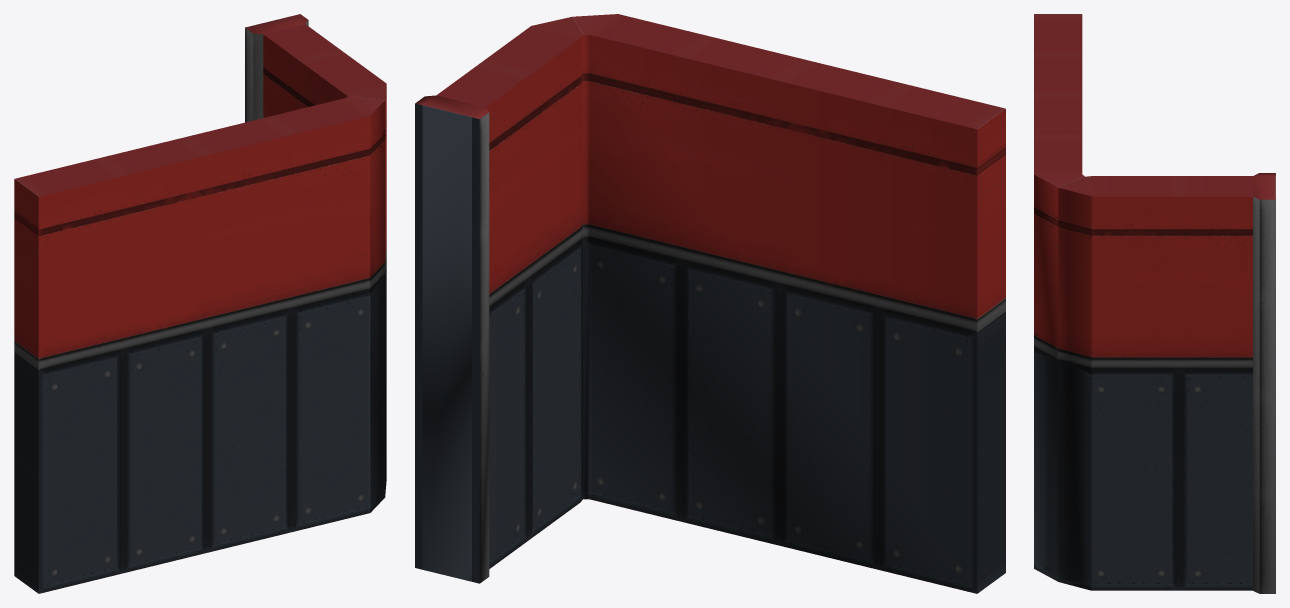
Rendered from elevatorWall02.dae.
3 views of the same model, side by side, from view 1: azimuth 30°, elevation 25°; view 2: azimuth 150°, elevation 25°; view 3: azimuth 270°, elevation 25° (orthographic). The views are drawn at different scales.
Visible parts, largest first — view 1: polySurface14; view 2: polySurface14; view 3: polySurface14.
Boxes of the visible parts, box(x1,y1,x2,y2) form: polySurface14: box(14, 14, 386, 593); polySurface14: box(415, 14, 1005, 593); polySurface14: box(1034, 14, 1275, 593).
Size of the model in its own units: 4.54 by 4.5 by 2.5.
1 material, 1 textured.
